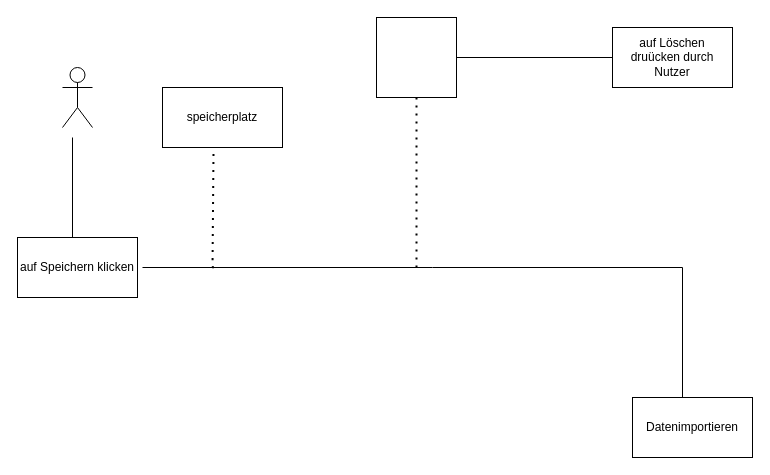
This 770x475 diagram has some shape labels left out. The centre of each missing label's shape, as x and y in pixels:
"Benutzer" goes at pixel 77 97.
"Datenbank" goes at pixel 416 57.
